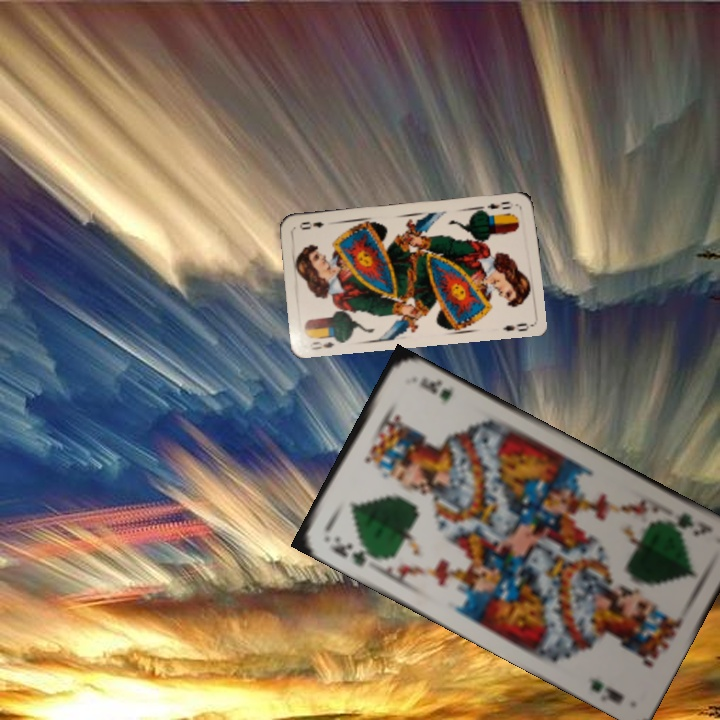EO: (483, 197, 515, 212), (308, 338, 336, 352)
GK: (326, 531, 379, 569), (660, 509, 716, 540)
